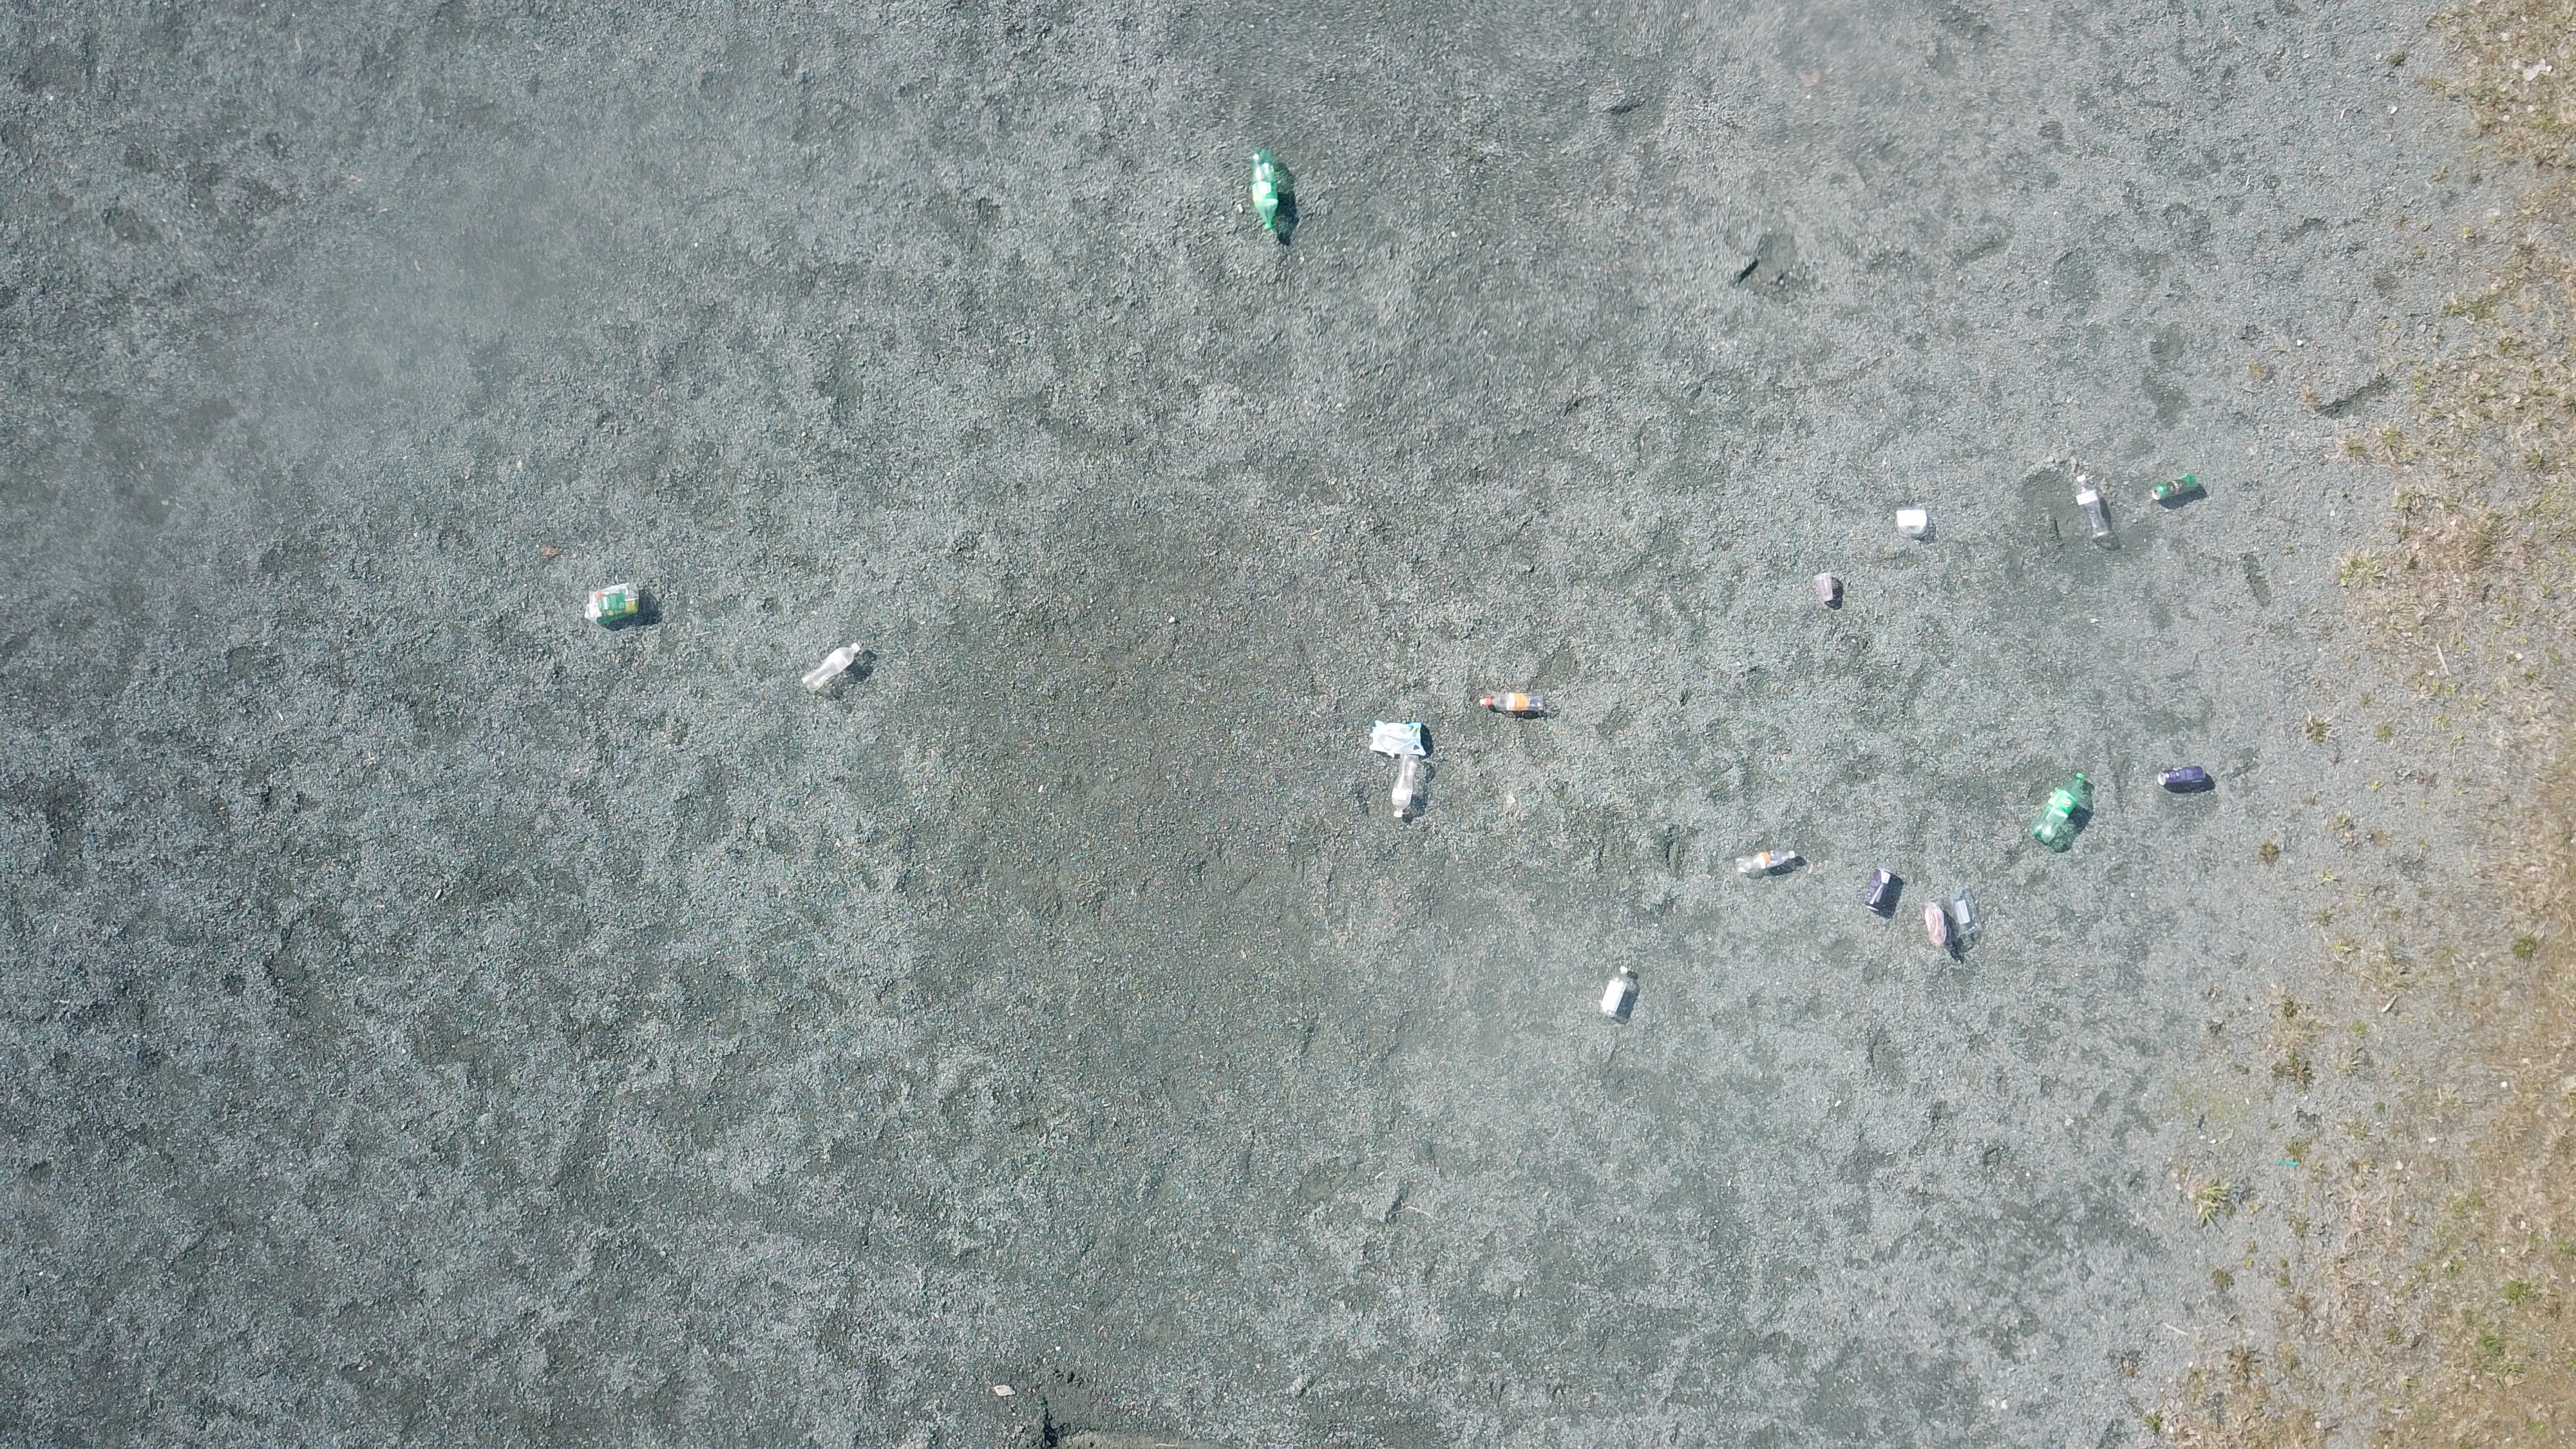Can: (1863, 869, 1895, 915), (2151, 474, 2197, 504), (2157, 764, 2208, 791)
Plastic: (1920, 892, 1982, 950), (584, 582, 639, 628), (1369, 718, 1424, 755), (1895, 506, 1932, 541), (1813, 571, 1835, 603)
PlasticBottle: (2029, 771, 2084, 844), (800, 642, 862, 694), (2074, 476, 2114, 545), (1247, 149, 1279, 234), (1392, 754, 1419, 819), (1599, 964, 1629, 1019), (1734, 849, 1796, 876), (1477, 692, 1546, 715)
